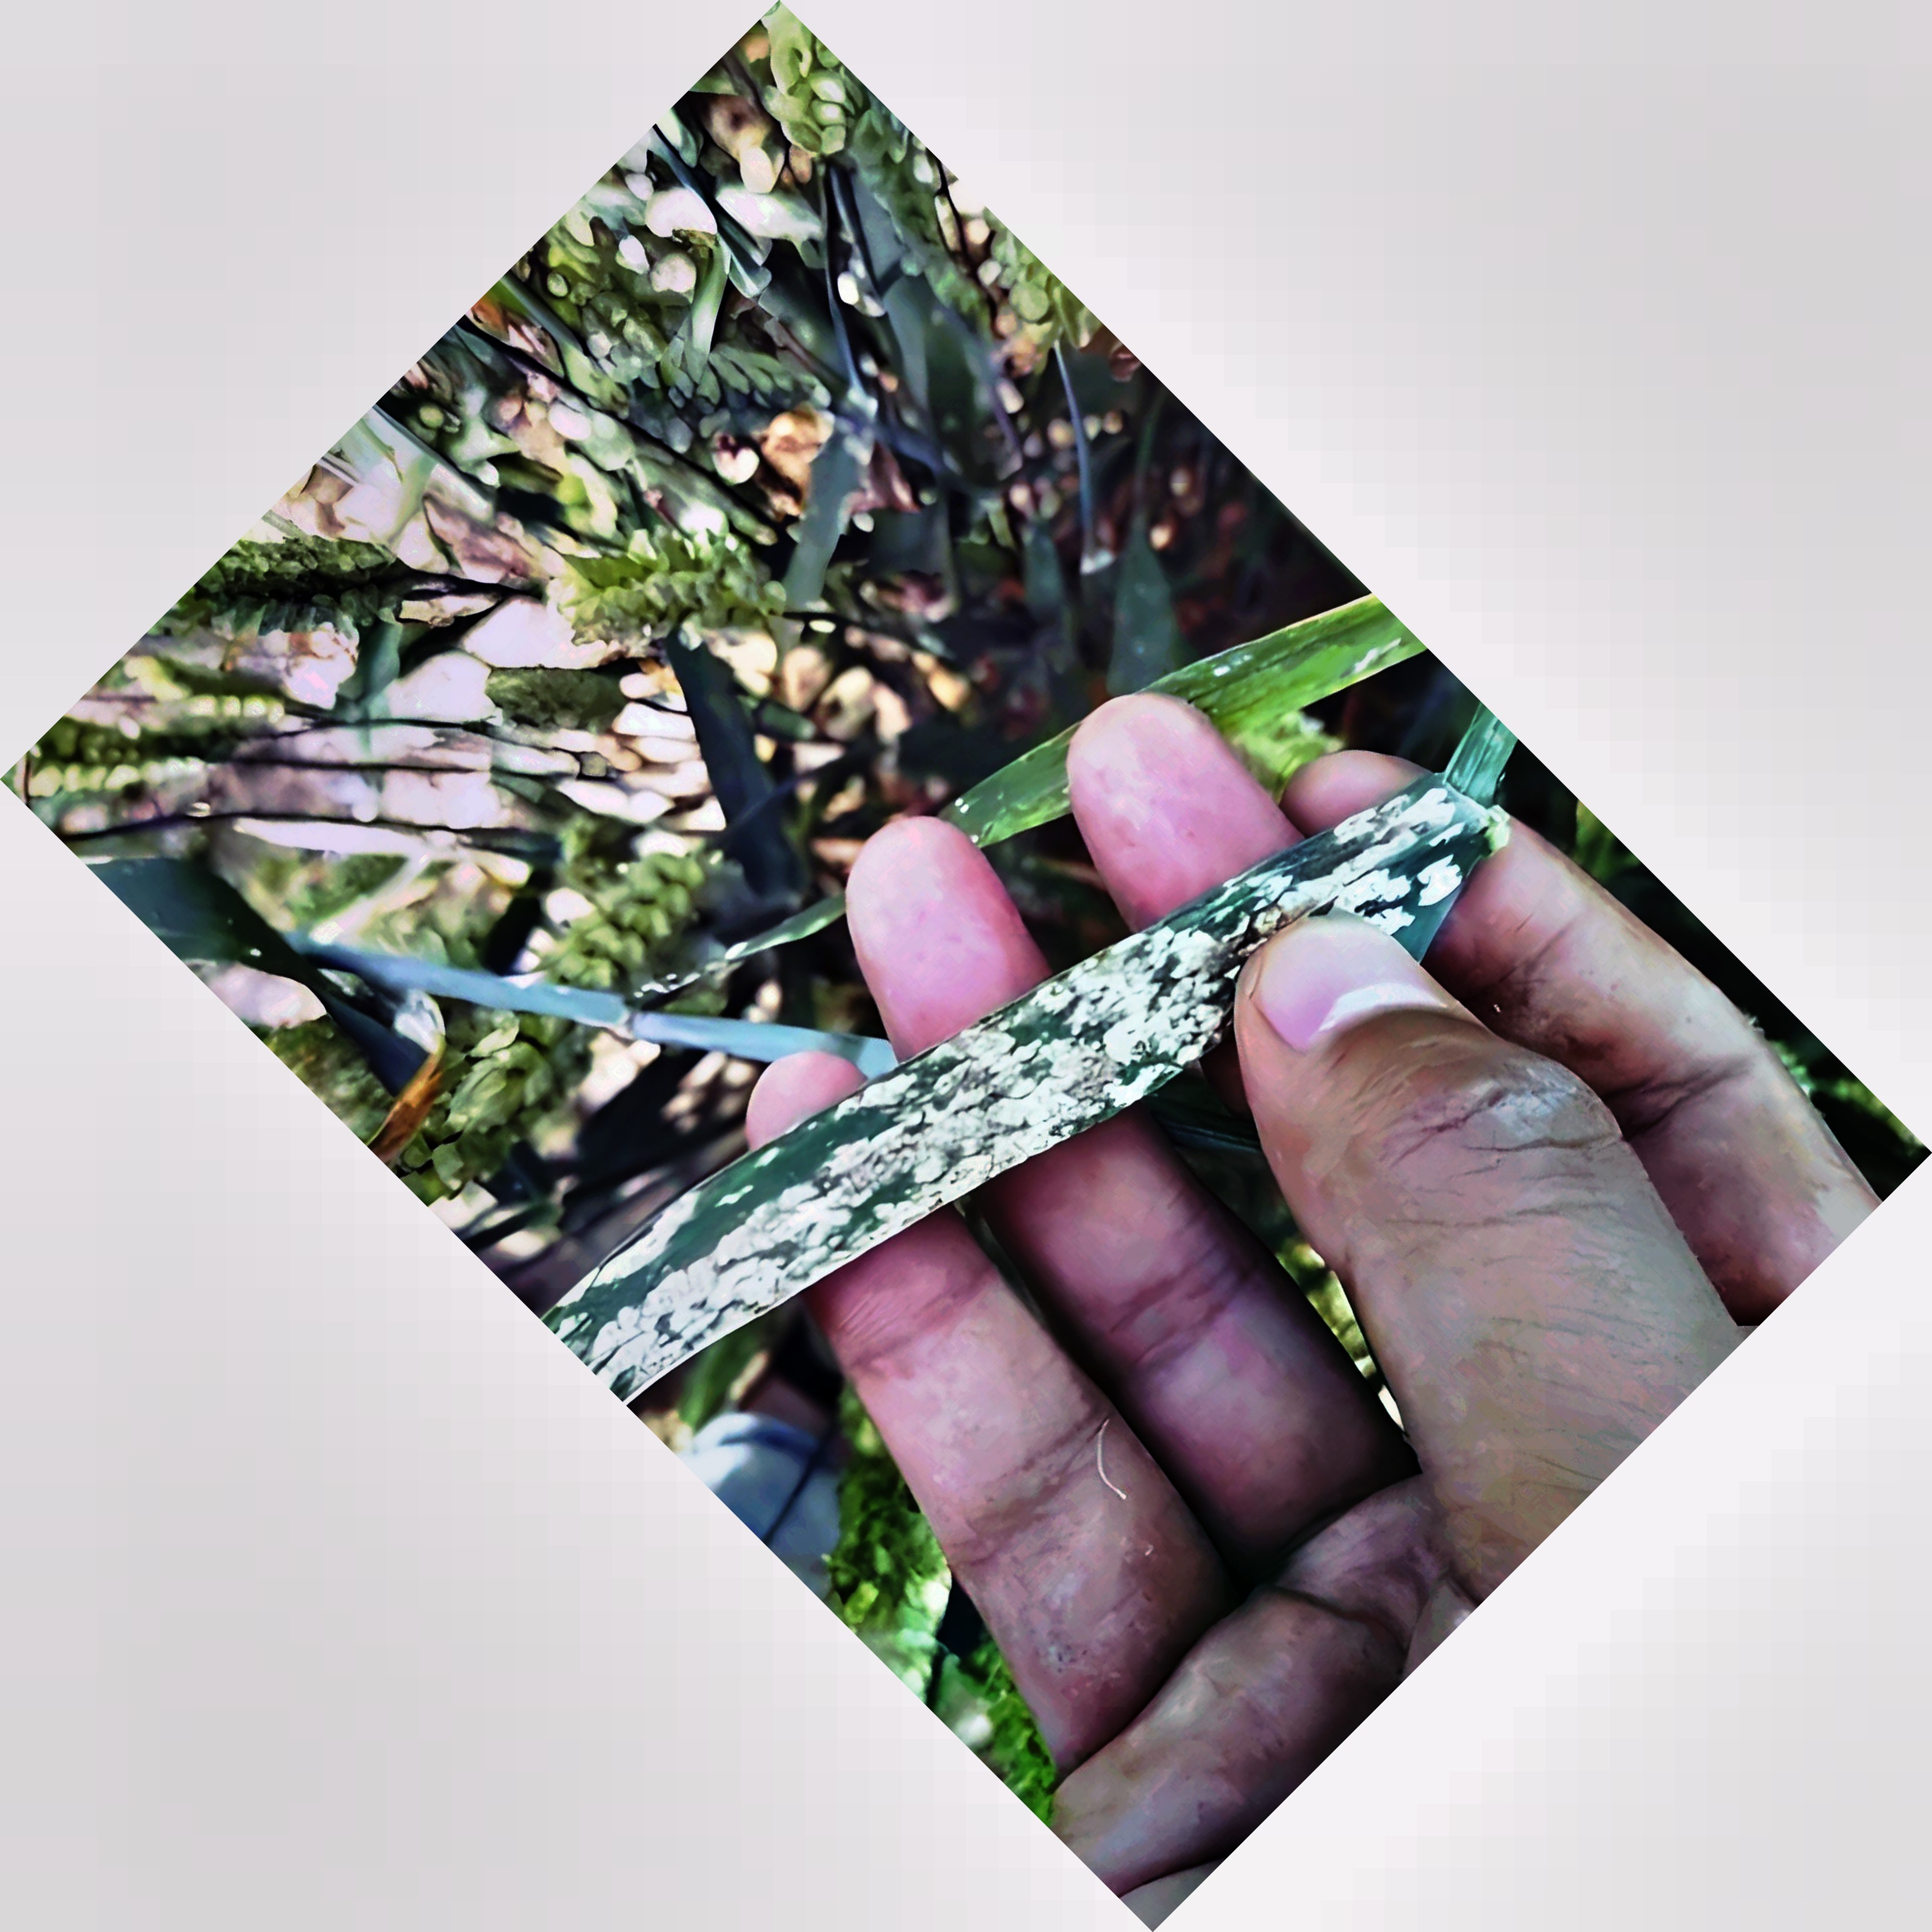Powdery Mildew: (593, 778, 1495, 1378)
